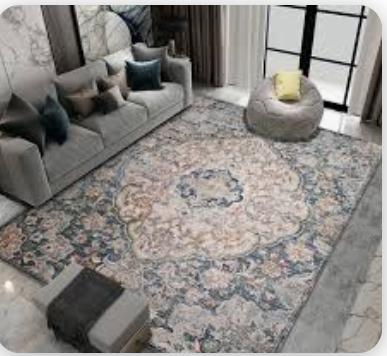carpet: (0, 7, 386, 356)
